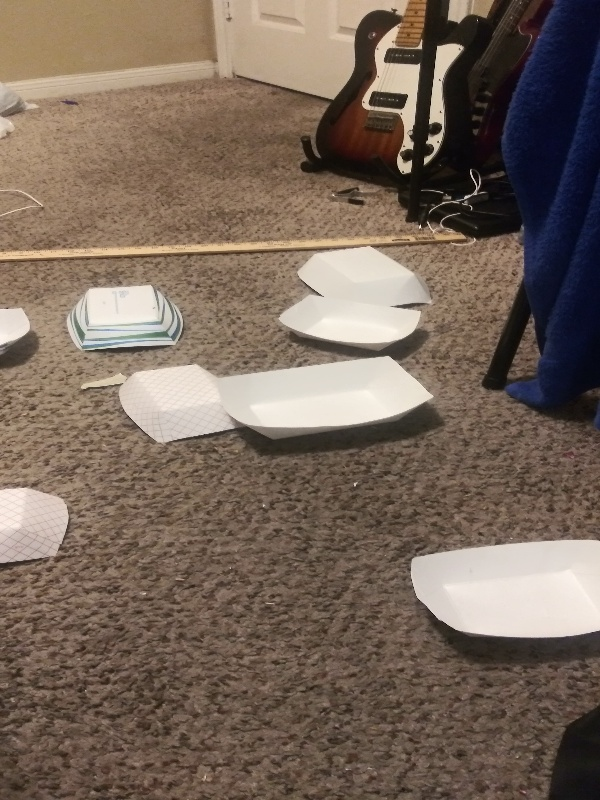plate: (405, 529, 600, 650), (217, 352, 433, 450), (114, 361, 242, 448), (291, 244, 441, 309), (276, 291, 429, 354), (62, 283, 189, 353), (1, 480, 70, 571), (1, 301, 33, 359)
